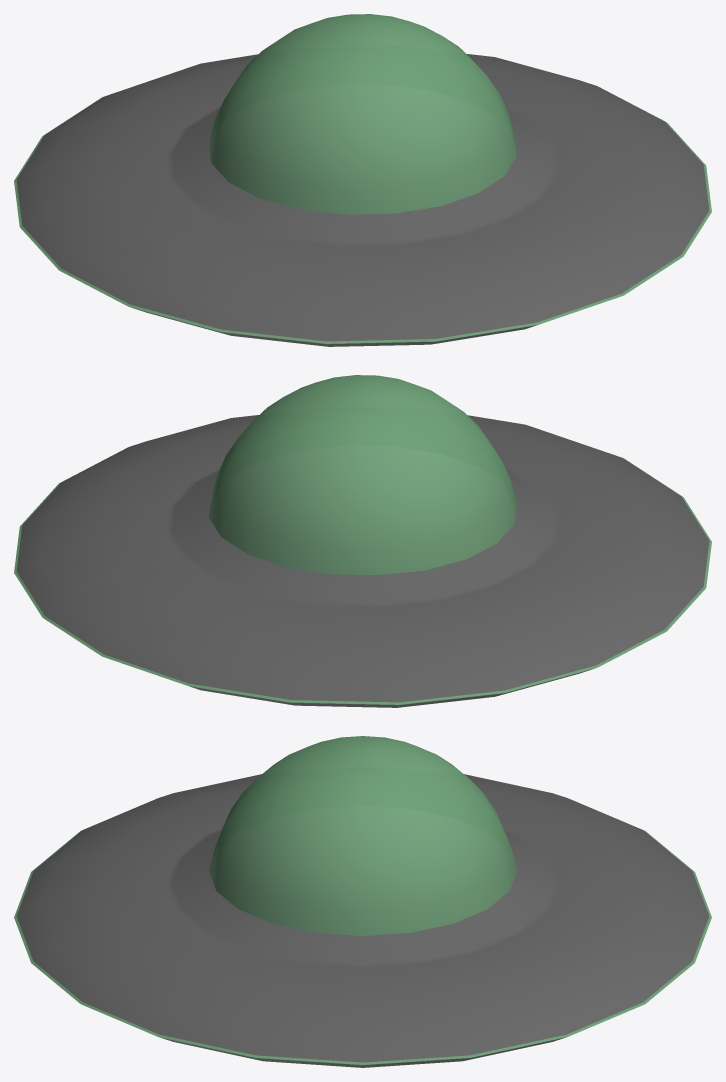
File: UFO.fbx
The picture shows the model from 3 angles, top to bottom: view 1: azimuth 30°, elevation 25°; view 2: azimuth 150°, elevation 25°; view 3: azimuth 270°, elevation 25°; orthographic projection.
Visible parts, largest first — view 1: UFO; view 2: UFO; view 3: UFO.
Boxes of the visible parts, x1,y1,x2,y2 form: UFO: [14, 14, 711, 346]; UFO: [14, 375, 711, 707]; UFO: [14, 736, 711, 1067].
Bounding box in the file's own units: 229 × 86.26 × 229.
